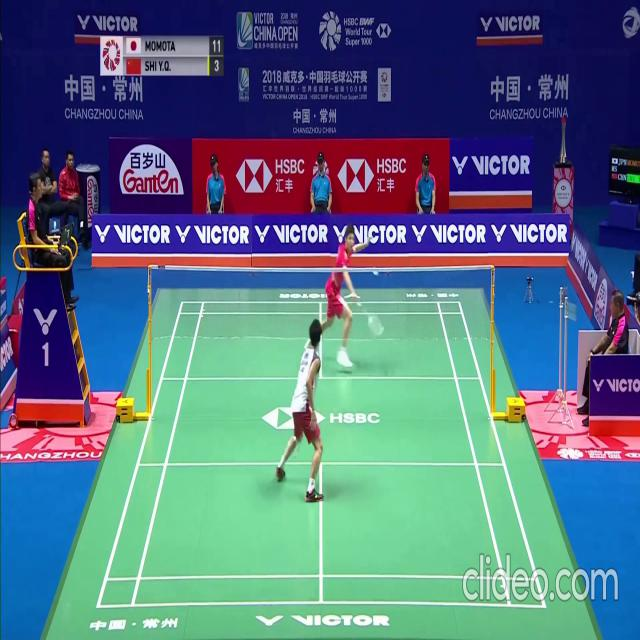Shuttlecock: (373, 269, 378, 277)
